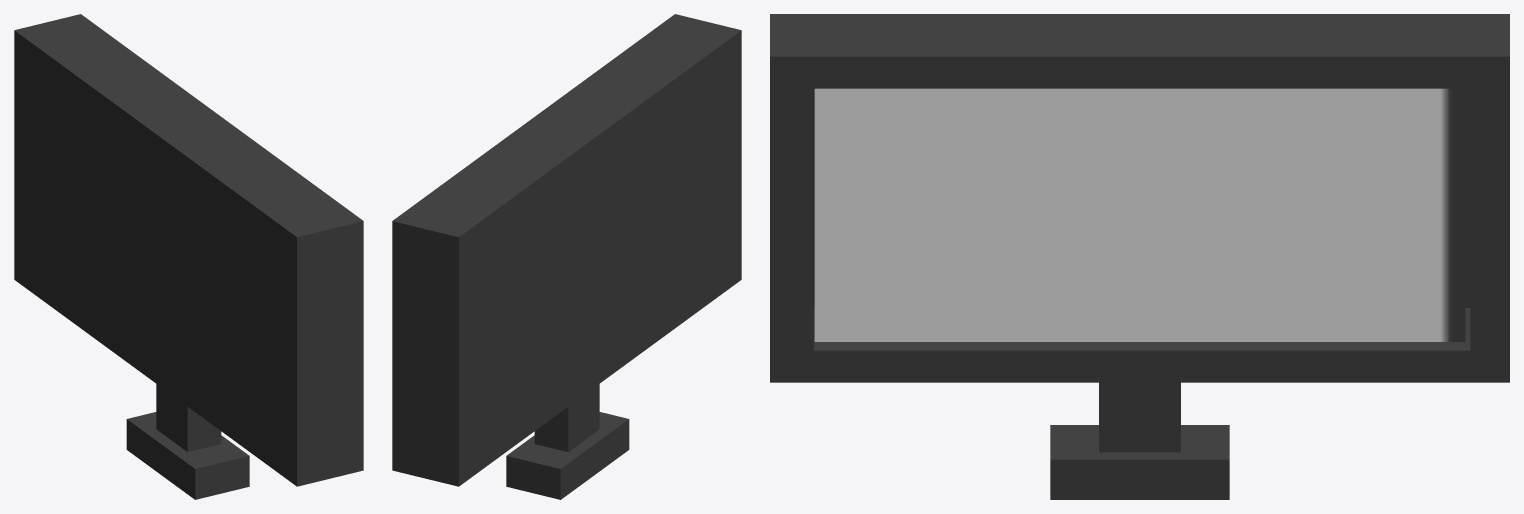
3 views of the same model, side by side, from view 1: azimuth 30°, elevation 25°; view 2: azimuth 150°, elevation 25°; view 3: azimuth 270°, elevation 25° (orthographic). The views are drawn at different scales.
Parts seen in each view (by area): view 1: 立方体.003; view 2: 立方体.003; view 3: 立方体.003.
Part boxes in pixels (x1,y1,x2,y2): 立方体.003: (14, 14, 363, 499); 立方体.003: (392, 14, 741, 499); 立方体.003: (770, 14, 1509, 499).
Size of the model in its own units: 245 by 1204 by 1802.
